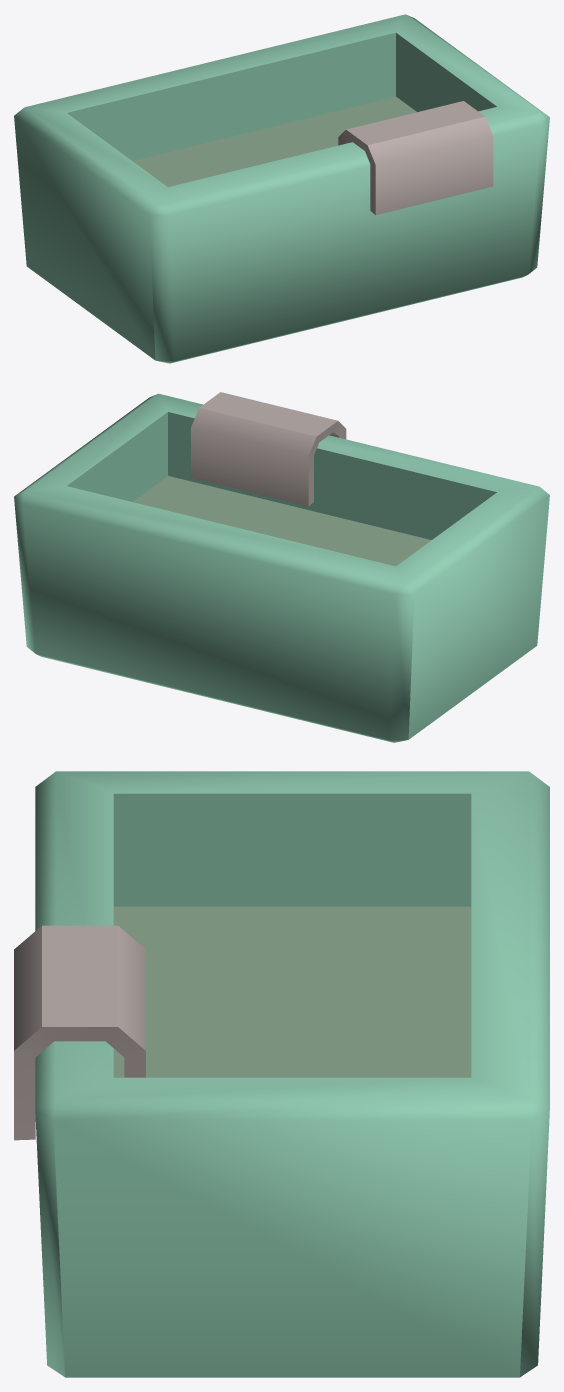
The model's file is bath.fbx.
The picture shows the model from 3 angles, top to bottom: view 1: azimuth 30°, elevation 25°; view 2: azimuth 150°, elevation 25°; view 3: azimuth 270°, elevation 25°; orthographic projection. The views are drawn at different scales.
Visible parts, largest first — view 1: clinic2; view 2: clinic2; view 3: clinic2.
Part boxes in pixels (x1=…): clinic2: x1=14, y1=14, x2=549, y2=363; clinic2: x1=14, y1=392, x2=549, y2=742; clinic2: x1=14, y1=771, x2=549, y2=1377.
Bounding box in the file's own units: 216 × 91.15 × 142.
